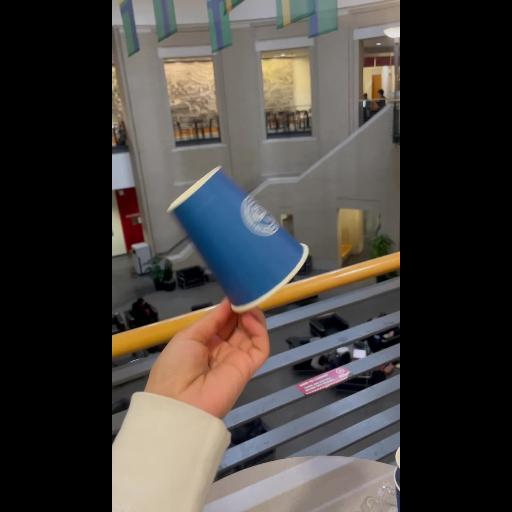lp_paper_cup: (156, 159, 318, 319)
